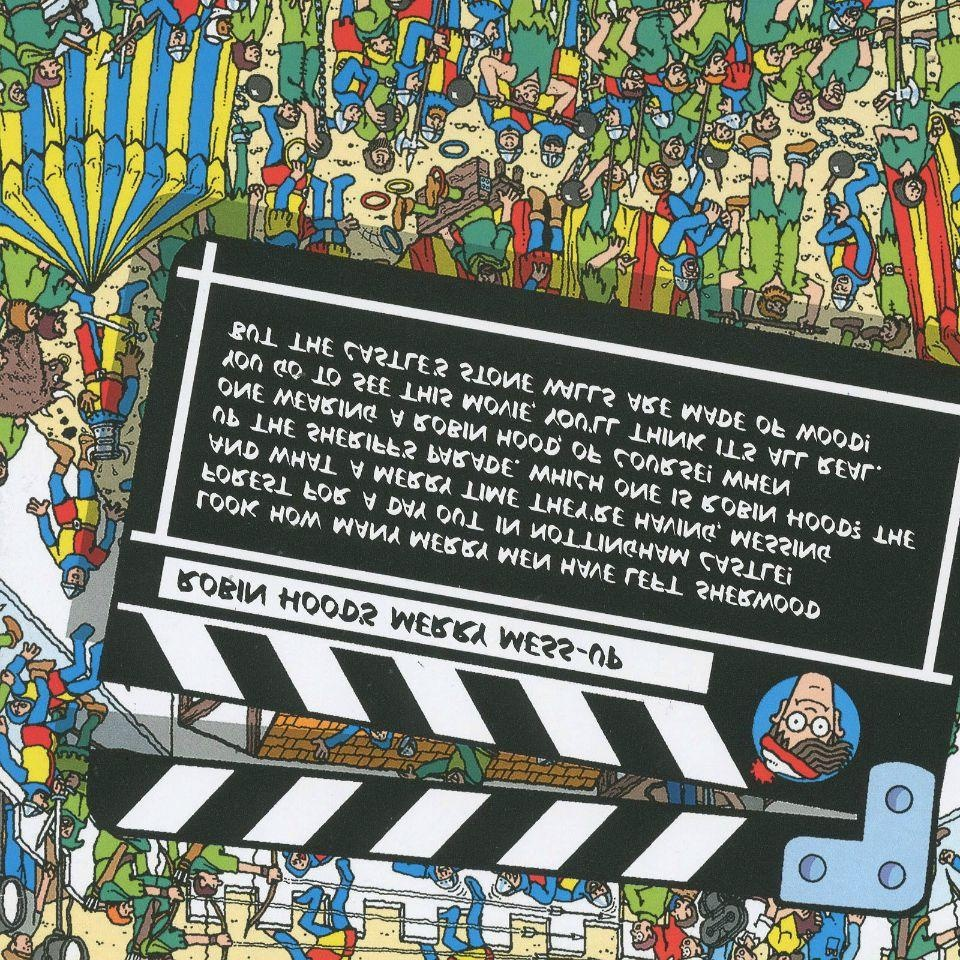waldo: (750, 671, 862, 781)
